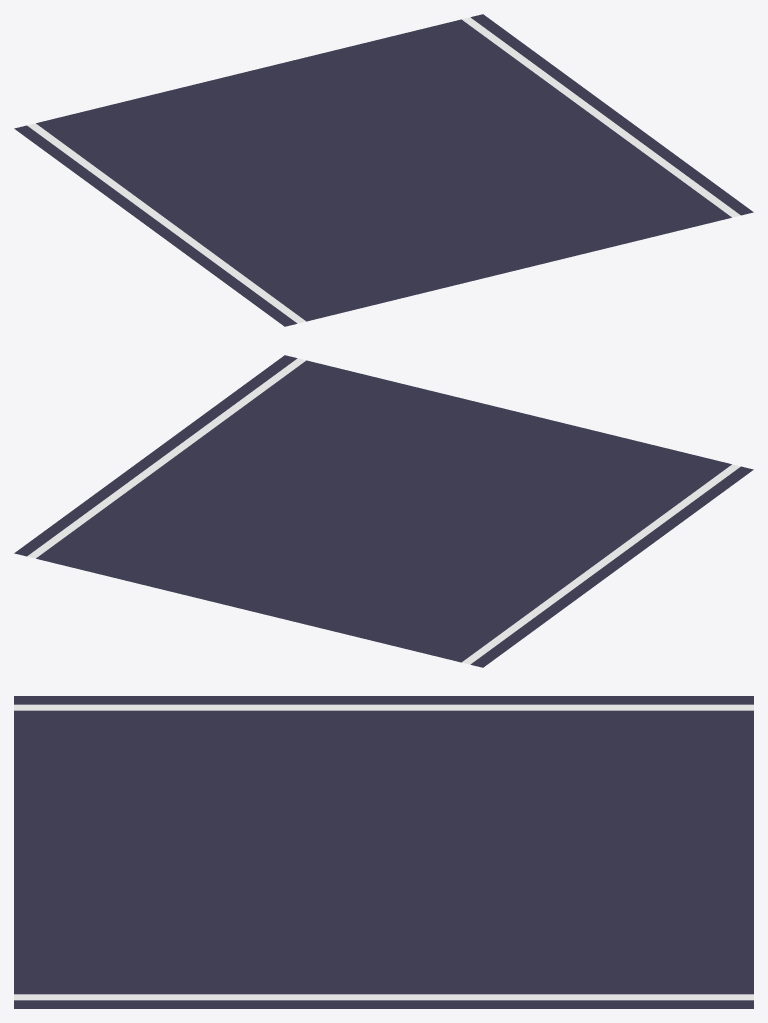
File: block_3.fbx
3 views of the same model, one above another, from view 1: azimuth 30°, elevation 25°; view 2: azimuth 150°, elevation 25°; view 3: azimuth 270°, elevation 25° (orthographic). The views are drawn at different scales.
Visible parts, largest first — view 1: Block_1.008; view 2: Block_1.008; view 3: Block_1.008.
Boxes of the visible parts, x1=… form: Block_1.008: x1=14, y1=14, x2=753, y2=326; Block_1.008: x1=14, y1=355, x2=753, y2=667; Block_1.008: x1=14, y1=696, x2=753, y2=1008.
Size of the model in its own units: 19.78 by 0 by 19.78.
1 material, 1 textured.
